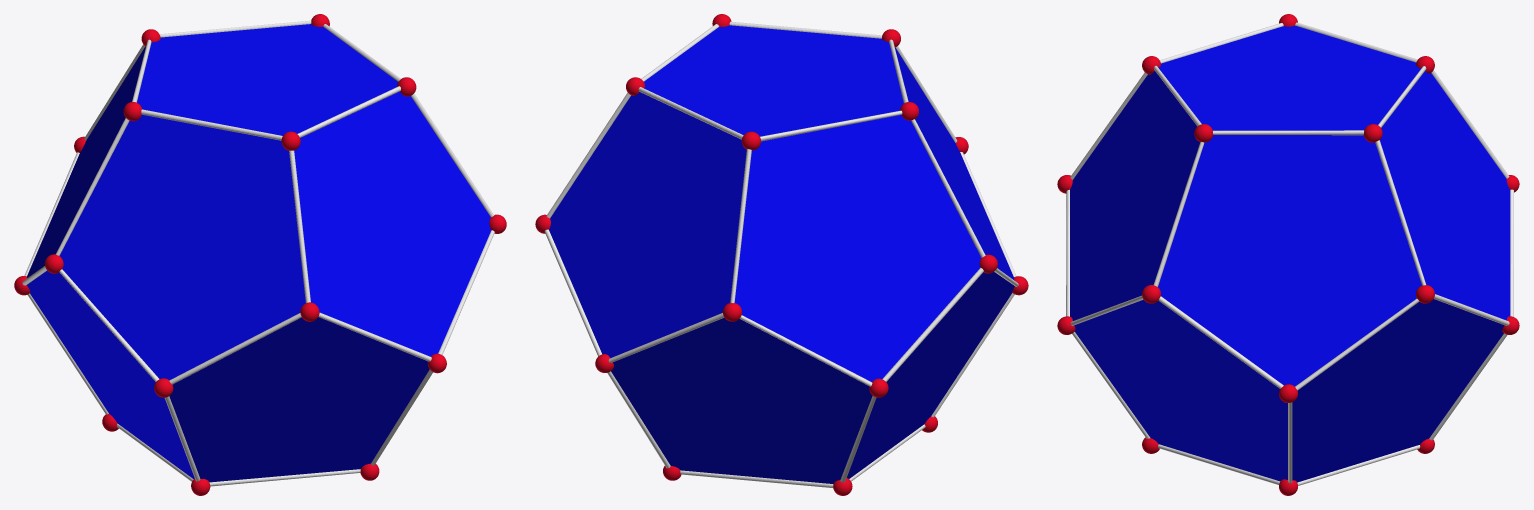
The model's file is Dodecahedron.fbx.
3 renders of one model, left to right at view 1: azimuth 30°, elevation 25°; view 2: azimuth 150°, elevation 25°; view 3: azimuth 270°, elevation 25°, orthographic. The views are drawn at different scales.
Parts seen in each view (by area): view 1: Full, V; view 2: Full; view 3: Full, V.
Part boxes in pixels (x1,y1,x2,y2): Full: [14, 14, 504, 489]; V: [15, 17, 506, 495]; Full: [535, 14, 1026, 495]; Full: [1062, 14, 1519, 495]; V: [1057, 15, 1511, 495].
Bounding box in the file's own units: 174 × 142 × 166.
